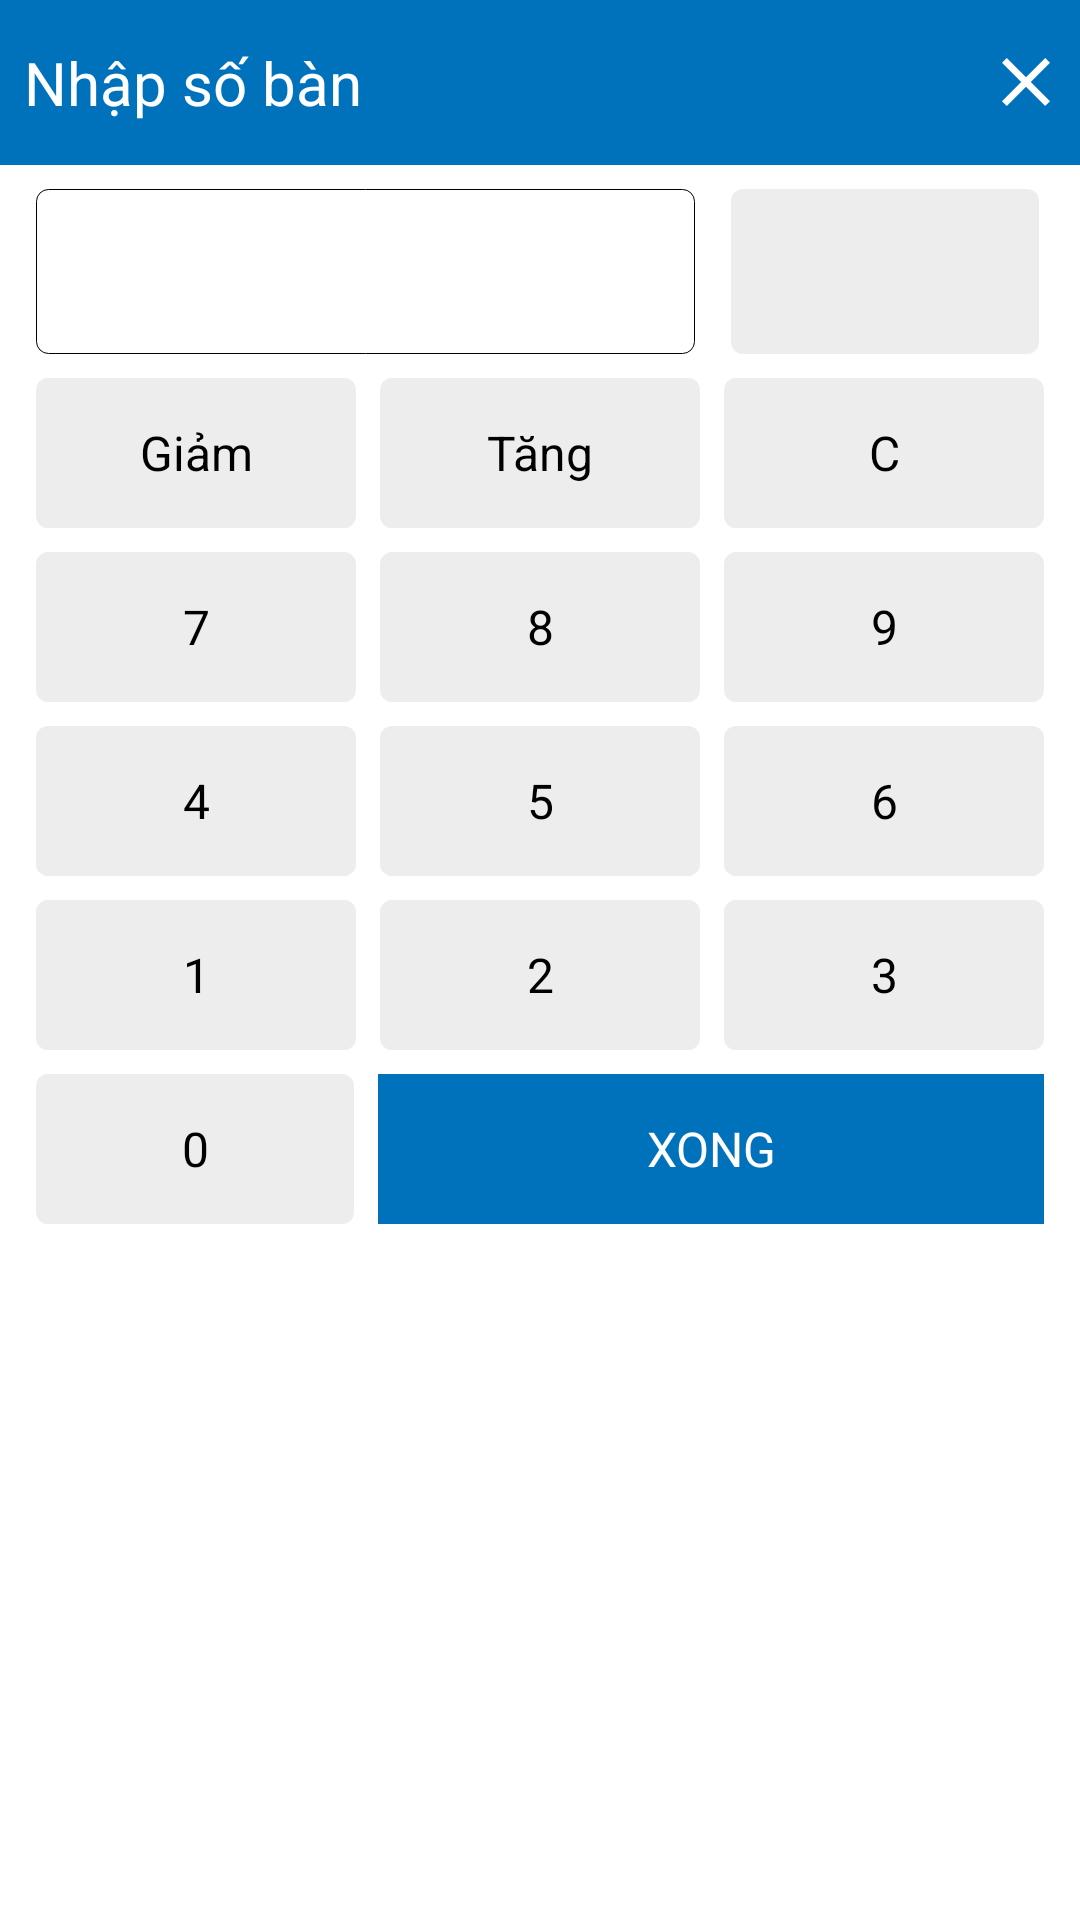

Named icons in this screenshot (1080x1920) and their bounding boxes, (x1, y1, x2, y2):
close: (1002, 58, 1050, 106)
